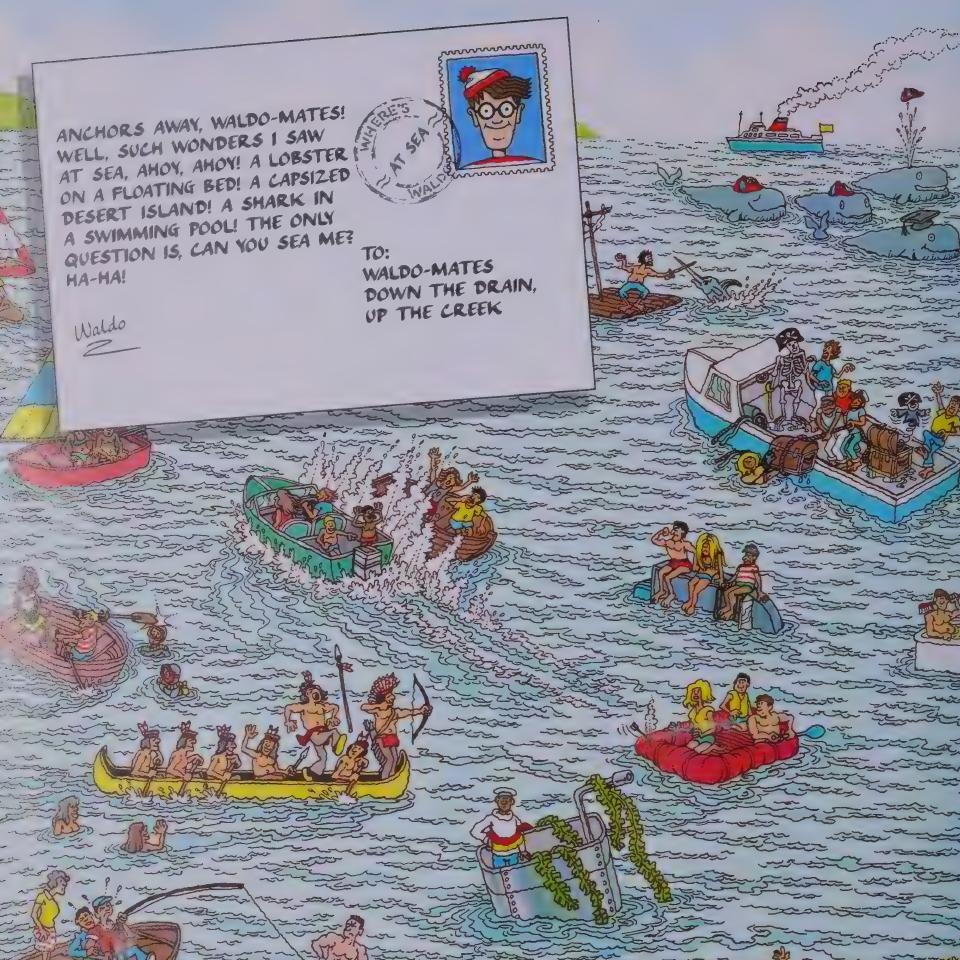waldo: (456, 62, 534, 167)
